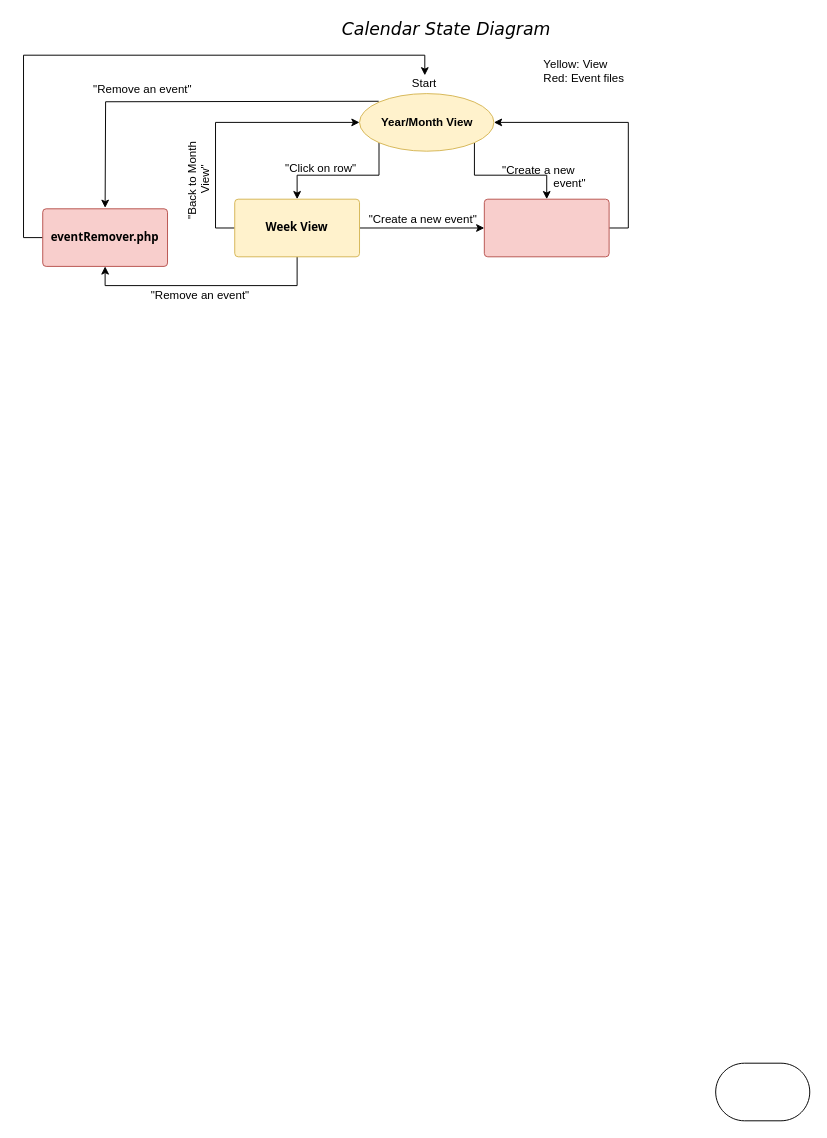
Some shapes in this 827 by 1138 pixel diagram are drawn without their labels. Each missing label, with the centre of its shape:
"End" belongs at [762,1091].
"eventHandler.js" belongs at [546,227].
